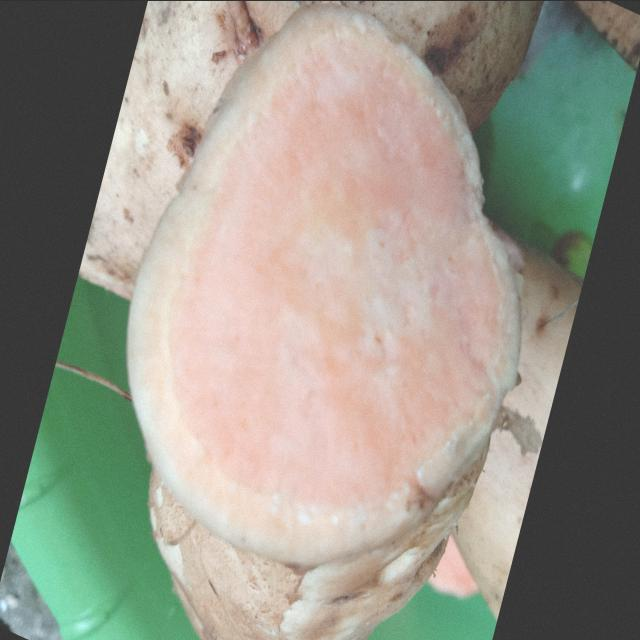Healthy Sweet Potato: (128, 5, 520, 563)
